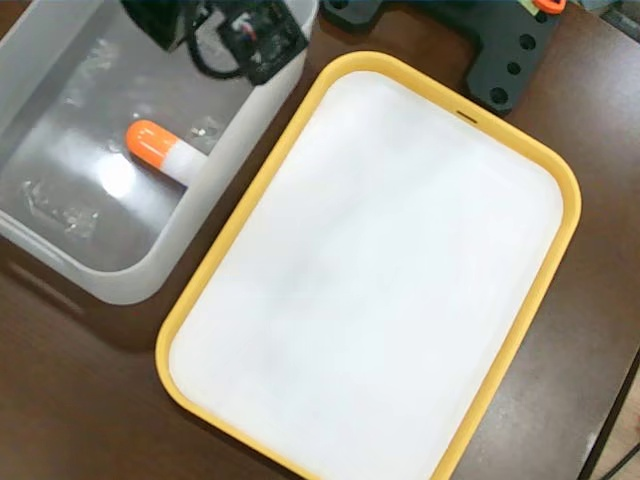pill: (122, 117, 206, 191)
